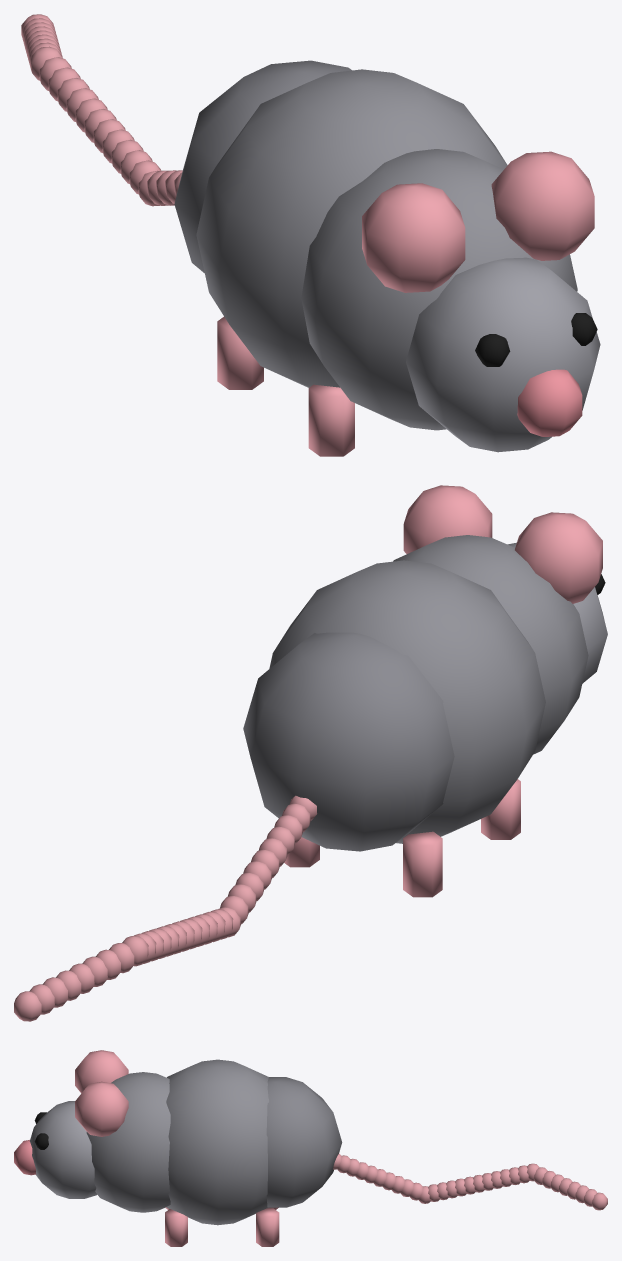
Rendered from rato.glb.
3 renders of one model, top to bottom at view 1: azimuth 30°, elevation 25°; view 2: azimuth 150°, elevation 25°; view 3: azimuth 270°, elevation 25°, orthographic. The views are drawn at different scales.
Parts seen in each view (by area): view 1: rato; view 2: rato; view 3: rato.
Boxes of the visible parts, box(x1,y1,x2,y2) form: rato: box(21, 14, 600, 456); rato: box(14, 485, 607, 1021); rato: box(14, 1050, 607, 1246).
Bounding box in the file's own units: 0.2 × 0.21 × 0.7164.
